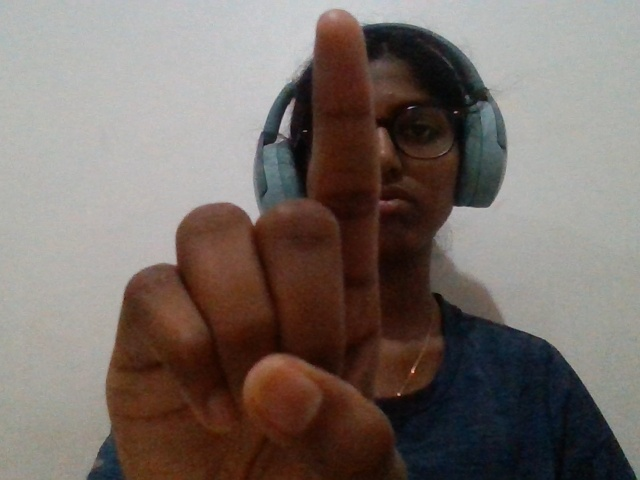D: (95, 7, 394, 480)
